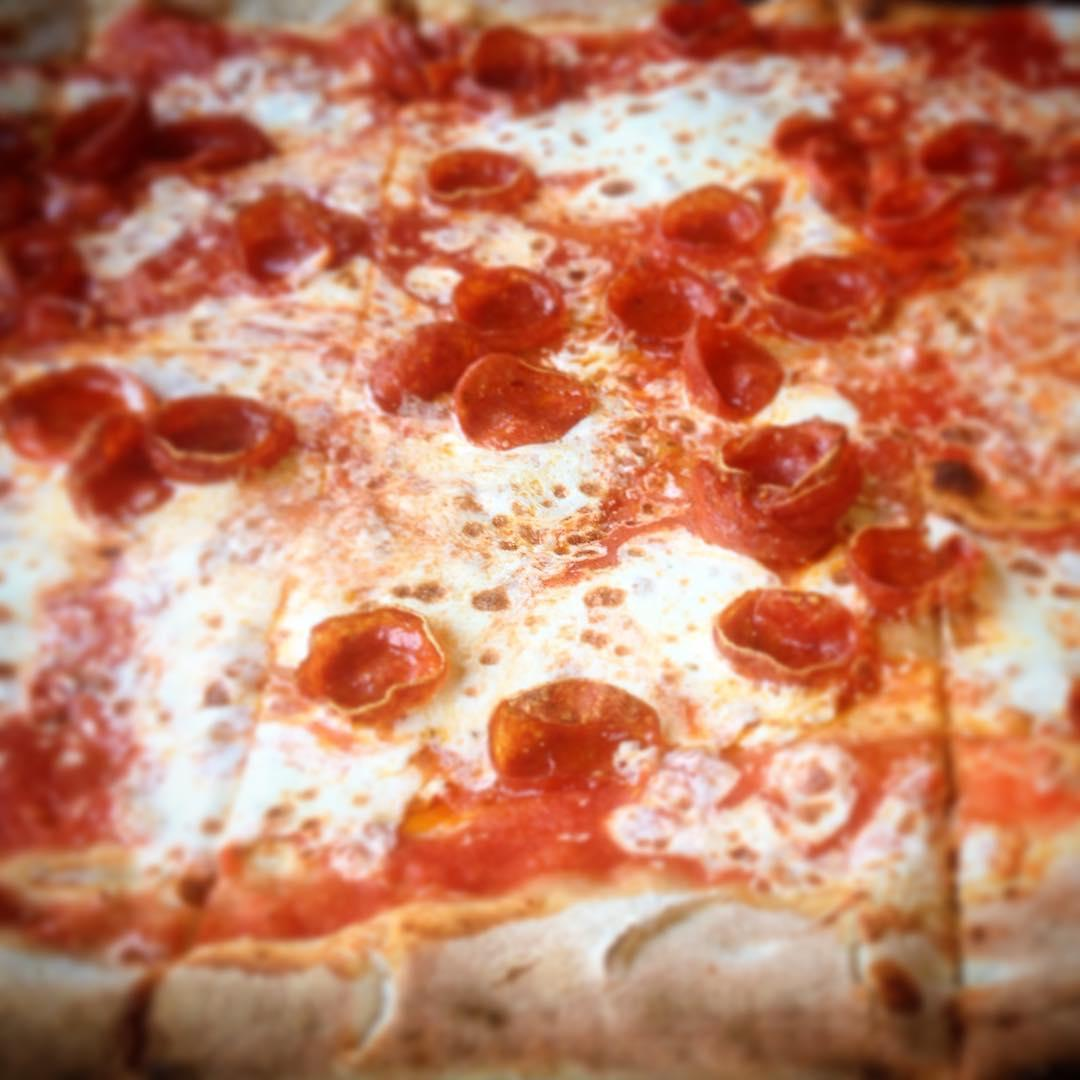Pepperoni: (0, 85, 280, 223), (480, 672, 663, 808), (287, 597, 452, 725), (37, 400, 192, 535), (705, 578, 870, 697), (708, 410, 857, 540), (662, 305, 805, 433), (342, 313, 500, 427), (218, 180, 375, 293), (762, 87, 917, 198), (140, 383, 308, 485), (447, 345, 608, 448), (0, 218, 117, 358), (745, 248, 907, 342), (2, 355, 140, 463), (848, 178, 977, 290), (443, 257, 578, 363), (595, 252, 718, 352), (848, 510, 975, 605), (923, 113, 1043, 202), (655, 170, 772, 257), (460, 18, 578, 100), (657, 0, 763, 50)
Pizza: (0, 0, 1080, 1080)
